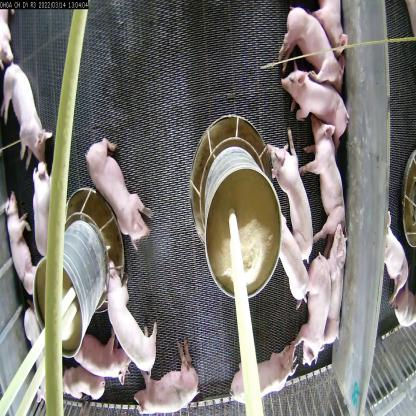Pig: (90, 136, 156, 260), (297, 94, 348, 242), (267, 116, 318, 258), (6, 49, 58, 178), (278, 6, 349, 90), (104, 258, 166, 353), (225, 350, 305, 415), (280, 67, 353, 136), (30, 158, 67, 281), (136, 344, 198, 415), (264, 212, 309, 307), (5, 195, 42, 301), (326, 223, 357, 333), (74, 330, 130, 389), (303, 259, 335, 361), (61, 368, 110, 407)
